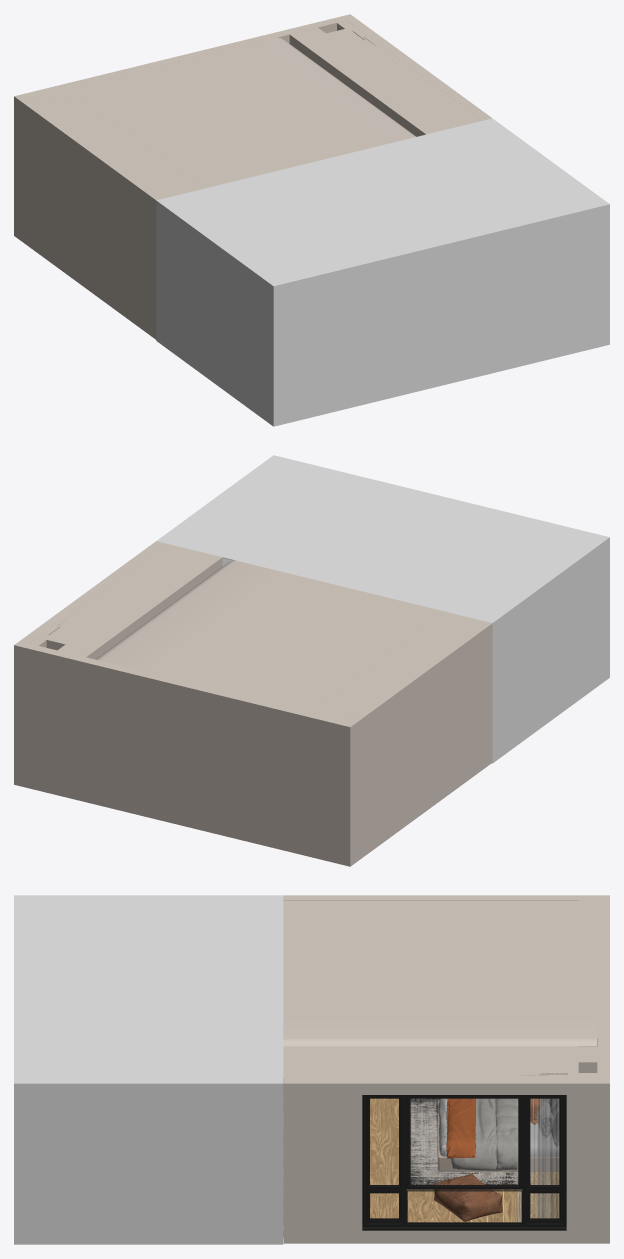
File: bedroom4-transformed.glb
The picture shows the model from 3 angles, top to bottom: view 1: azimuth 30°, elevation 25°; view 2: azimuth 150°, elevation 25°; view 3: azimuth 270°, elevation 25°; orthographic projection. The views are drawn at different scales.
Visible parts, largest first — view 1: box ex, teto, Wall, wardrobe; view 2: Wall, box ex, teto, wardrobe; view 3: box ex, teto, Wall, Window, wardrobe, Parquet, carprt, curtain 1, curtain 2, cushion, blanket, blanket.002 (+5 smaller).
Part boxes in pixels (x1,y1,x2,y2): box ex: (156,118,609,426); teto: (68,26,482,188); Wall: (14,14,491,339); wardrobe: (29,88,203,197); Wall: (14,541,492,866); box ex: (157,455,609,763); teto: (37,543,444,711); wardrobe: (307,611,482,720); box ex: (14,895,283,1244); teto: (283,921,597,1089); Wall: (283,895,609,1243); Window: (362,1095,566,1230); wardrobe: (283,900,597,922); Parquet: (283,1090,559,1237); carprt: (410,1098,531,1184); curtain 1: (537,1073,567,1218); curtain 2: (516,1075,549,1221); cushion: (434,1173,502,1221); blanket: (451,1098,507,1170); blanket.002: (446,1098,475,1158).
Bounding box in the file's own units: 7.1 × 2.85 × 9.49.
42 materials, 17 textured.
